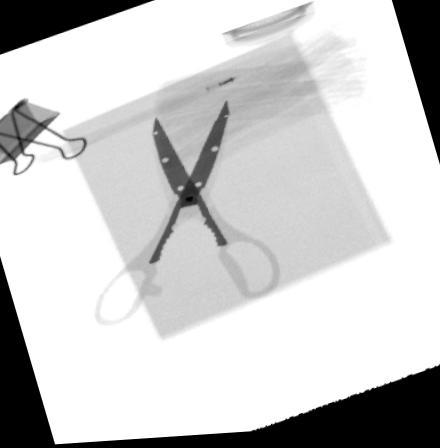Scissors: (94, 100, 281, 325)
